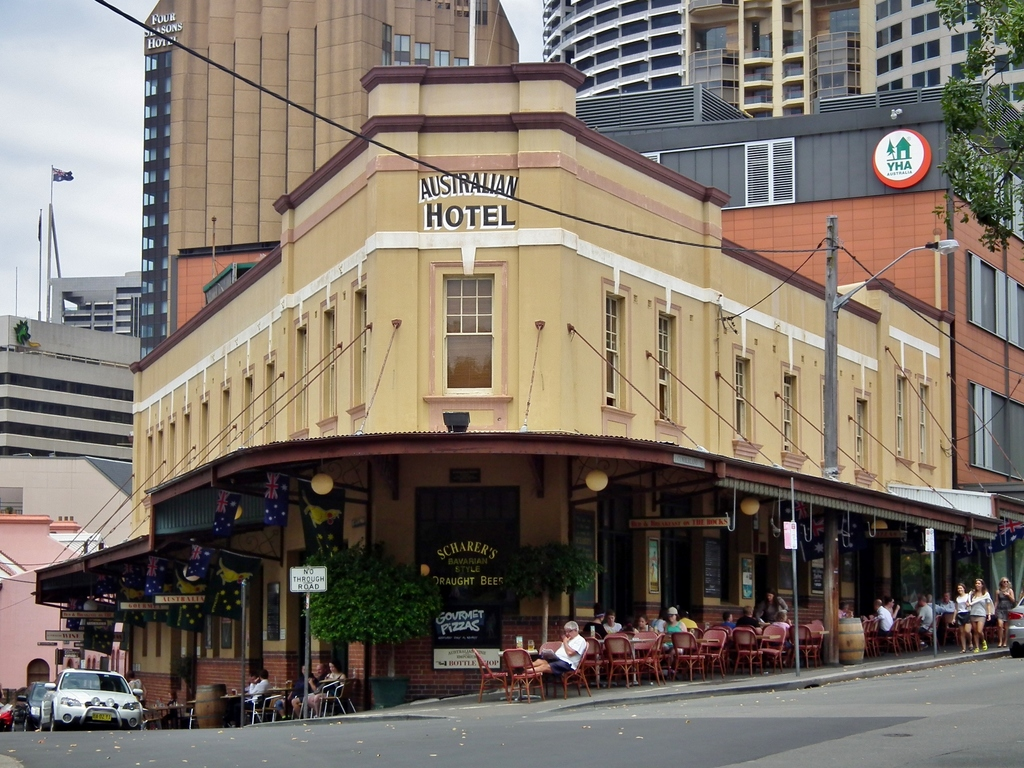mobil: (40, 669, 145, 734)
